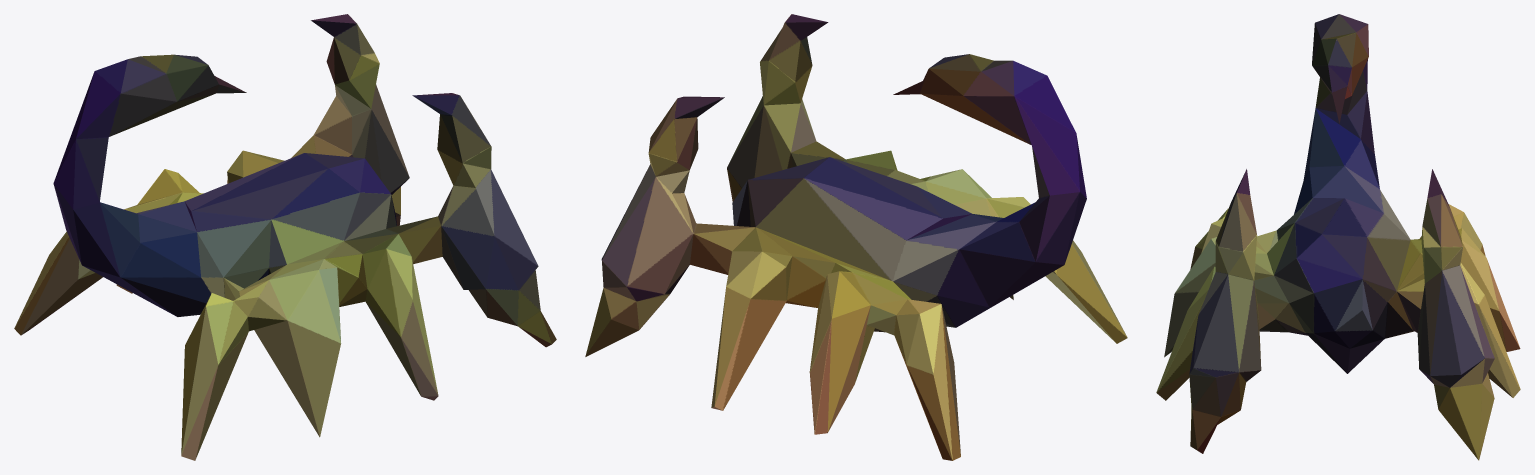
File: scorpion.fbx
The picture shows the model from 3 angles, left to right: view 1: azimuth 30°, elevation 25°; view 2: azimuth 150°, elevation 25°; view 3: azimuth 270°, elevation 25°; orthographic projection. The views are drawn at different scales.
Visible parts, largest first — view 1: Mesh_0; view 2: Mesh_0; view 3: Mesh_0.
Boxes of the visible parts, x1,y1,x2,y2 form: Mesh_0: [14, 14, 556, 460]; Mesh_0: [585, 14, 1127, 460]; Mesh_0: [1156, 14, 1520, 460].
Size of the model in its own units: 151 by 115 by 125.
1 material, 1 textured.
